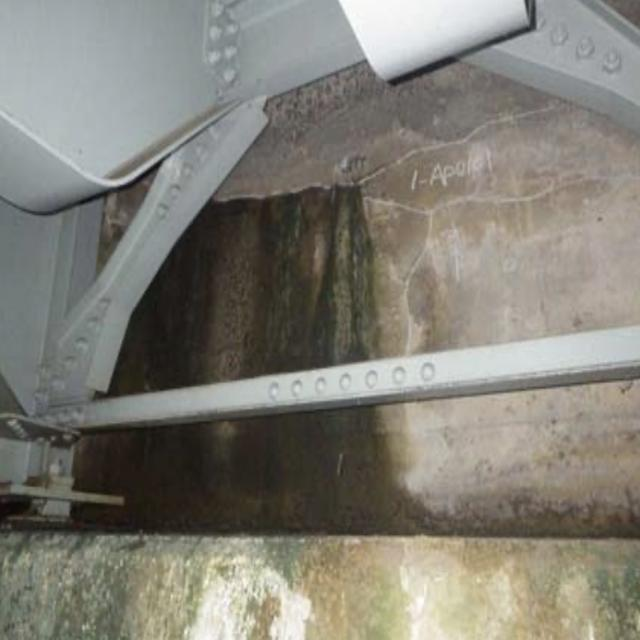leakage: (187, 192, 422, 558)
